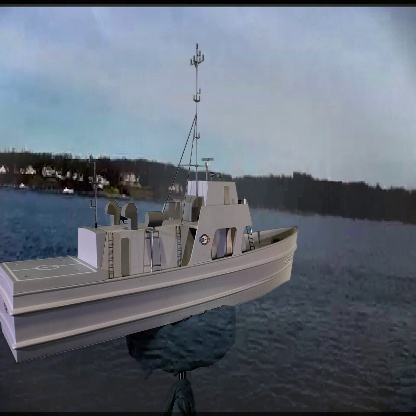YP689: (0, 40, 299, 368)
